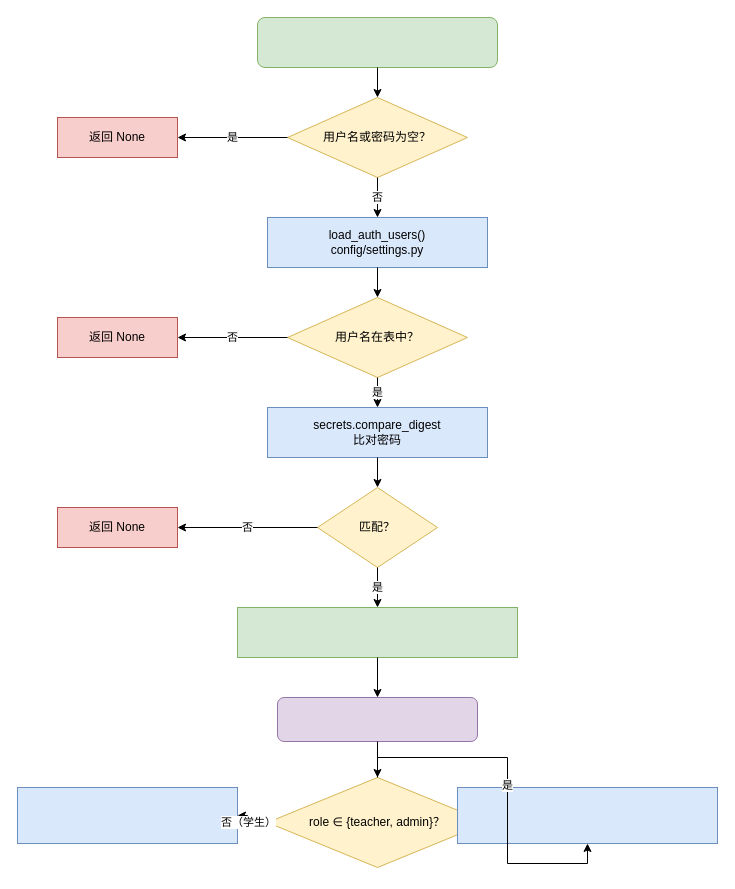
Some shapes in this 735 by 889 pixel diagram are drawn without their labels. Each missing label, with the centre of its shape:
is_staff(role): pixel 377 719
staff = False 侧边栏：仅学科问答相关能力: pixel 127 815
staff = True 侧边栏：上传、全部概览、清空知识库: pixel 587 815
verify_login(username, password) src/auth.py: pixel 377 42
返回 role 字符串 （student / teacher / admin）: pixel 377 632
